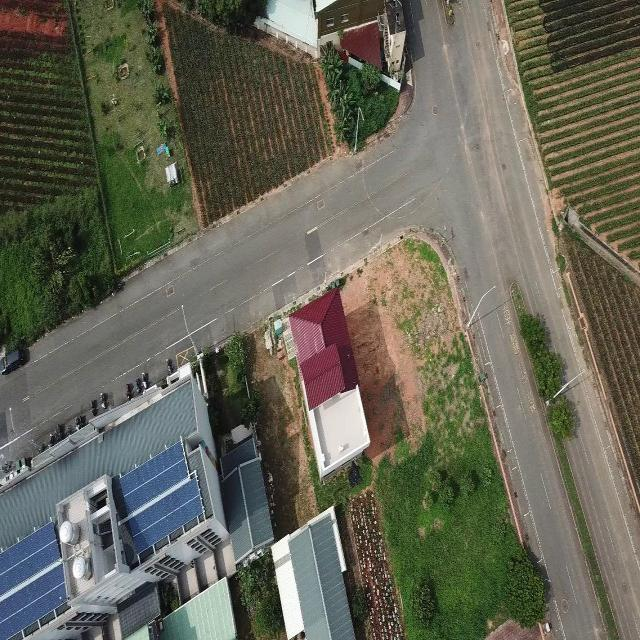car: (0, 344, 28, 375)
